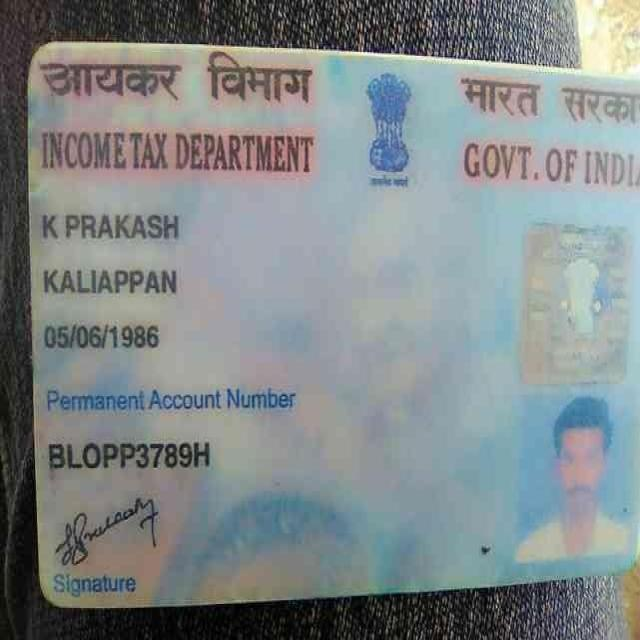pan_card: (33, 47, 640, 605)
